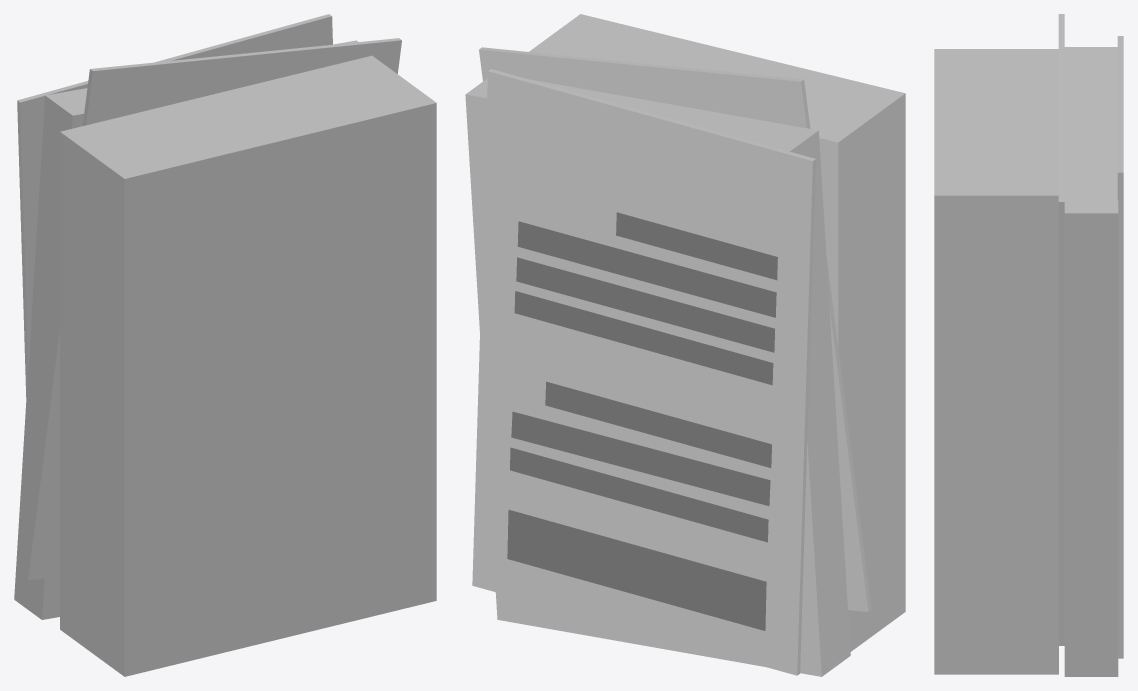
The model's file is Papers2.glb.
3 renders of one model, left to right at view 1: azimuth 30°, elevation 25°; view 2: azimuth 150°, elevation 25°; view 3: azimuth 270°, elevation 25°, orthographic. The views are drawn at different scales.
Parts seen in each view (by area): view 1: SO_Papers_03; view 2: SO_Papers_03; view 3: SO_Papers_03.
Boxes of the visible parts, x1,y1,x2,y2 form: SO_Papers_03: [14, 14, 436, 676]; SO_Papers_03: [465, 14, 905, 676]; SO_Papers_03: [934, 14, 1123, 676].
Size of the model in its own units: 0.5715 by 0.8182 by 0.26.
1 material, 1 textured.
